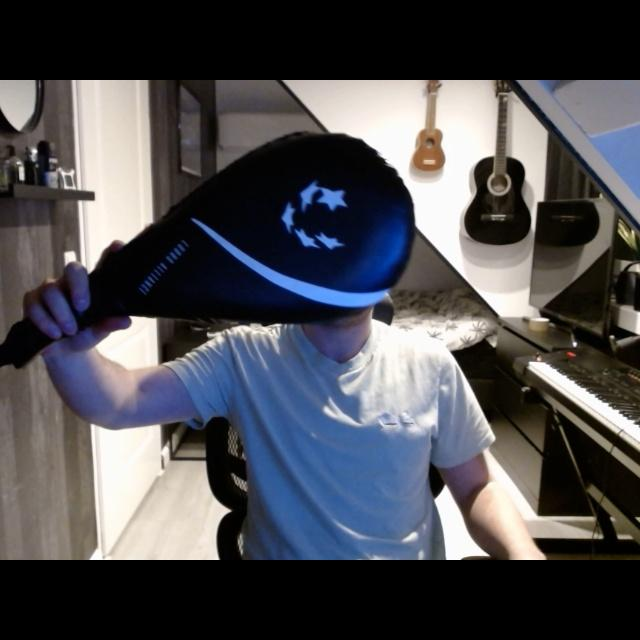paddle: (6, 125, 413, 369)
